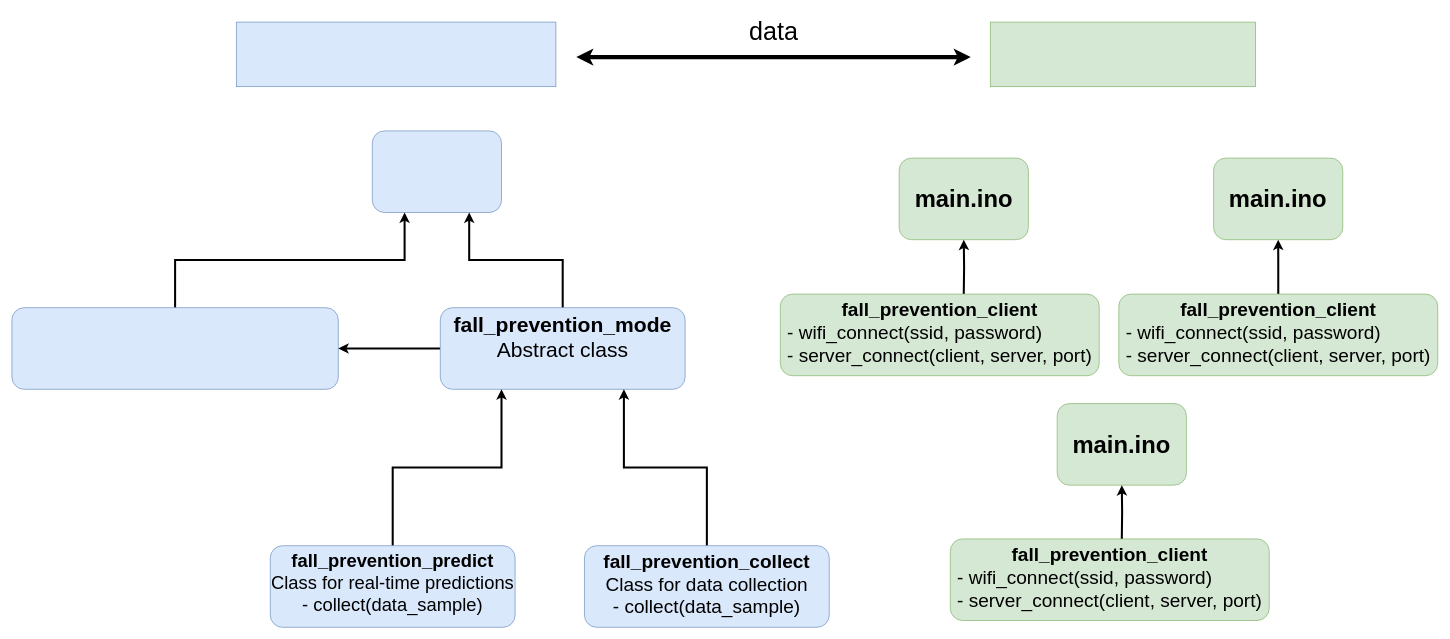
Some shapes in this 1450 by 639 pixel diagram are drawn without their labels. Each missing label, with the box of its shape:
Client Side - ESP(s): (990, 21, 1255, 87)
fall_prevention_server - Server.start(addr, num_clients, verbose, mode): (11, 307, 338, 389)
main.py: (372, 130, 502, 213)
Server Side - Work Station: (236, 21, 556, 87)
